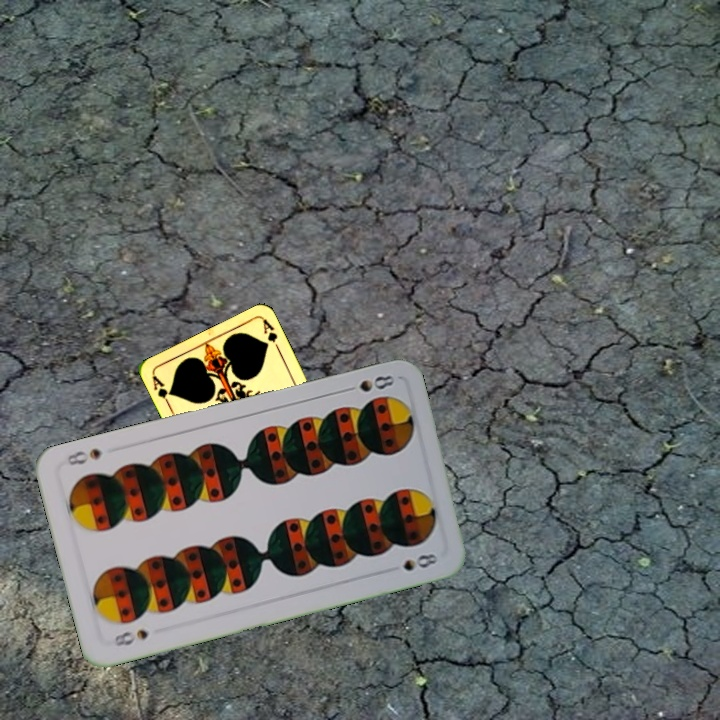GA: (148, 372, 175, 410)
S8: (355, 371, 398, 395), (110, 625, 151, 649)
